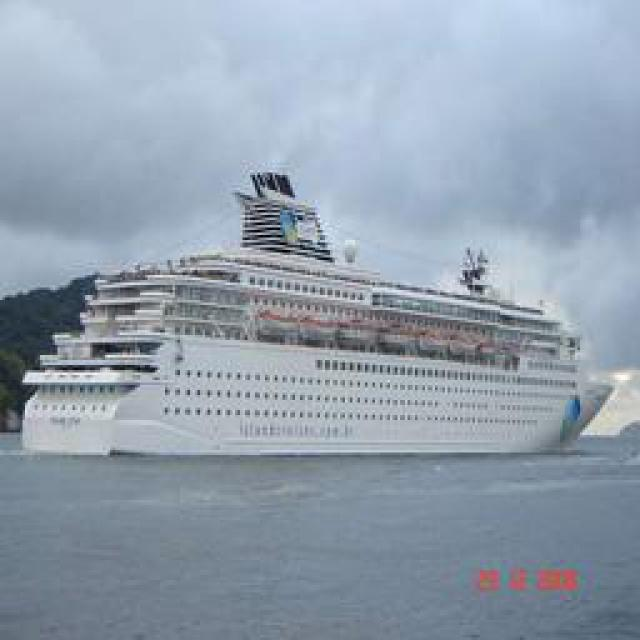Ship: (60, 167, 598, 457)
